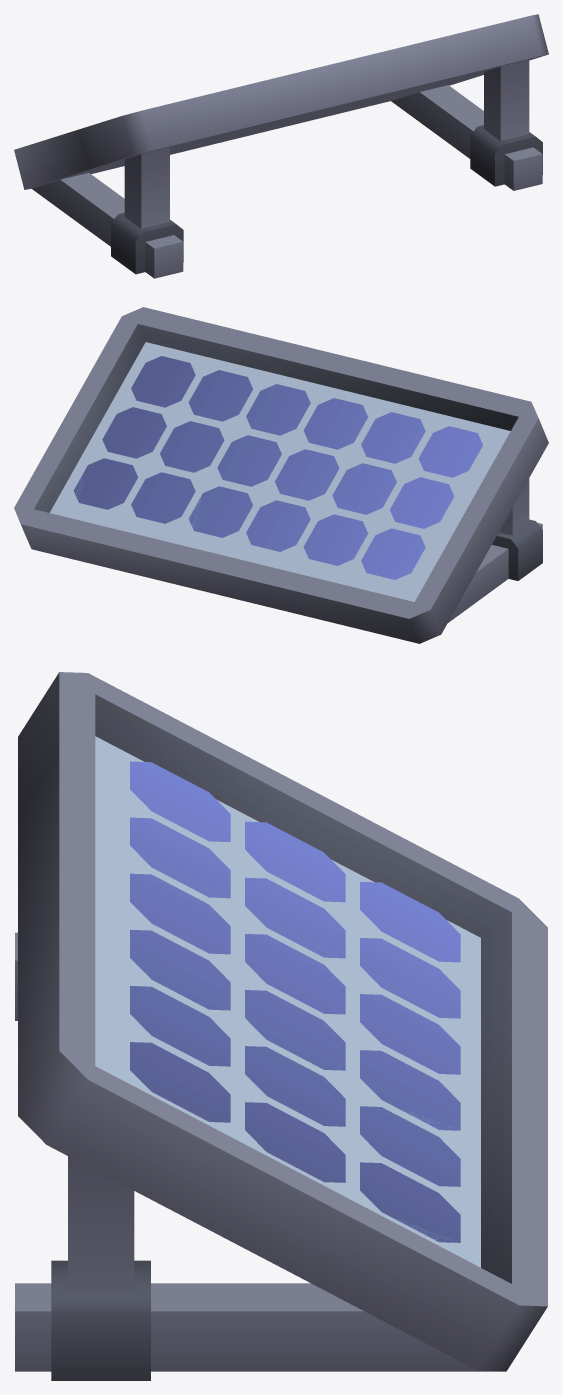
The model's file is industrial-solar-panel.glb.
The picture shows the model from 3 angles, top to bottom: view 1: azimuth 30°, elevation 25°; view 2: azimuth 150°, elevation 25°; view 3: azimuth 270°, elevation 25°; orthographic projection. The views are drawn at different scales.
Parts seen in each view (by area): view 1: solar-panel-landscape; view 2: solar-panel-landscape; view 3: solar-panel-landscape.
Boxes of the visible parts, <box> form: solar-panel-landscape: <box>14,14,548,278</box>; solar-panel-landscape: <box>14,307,548,643</box>; solar-panel-landscape: <box>15,672,547,1380</box>.
Size of the model in its own units: 0.7134 by 0.2623 by 0.3951.
Materials: 1 (1 with a texture image).
